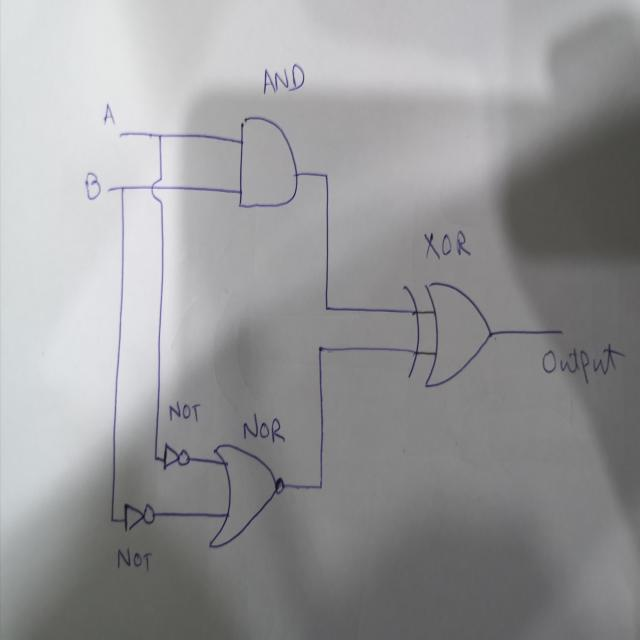crossover: (150, 174, 167, 209)
junction: (320, 167, 332, 186), (315, 476, 325, 496), (117, 181, 128, 196), (315, 340, 324, 358), (154, 128, 164, 142), (323, 301, 330, 314), (108, 514, 115, 524), (152, 452, 158, 462)
terminal: (556, 325, 566, 338), (116, 128, 124, 141), (104, 182, 112, 195)
text: (540, 338, 626, 389), (262, 59, 308, 98), (422, 228, 472, 262), (243, 414, 286, 445), (115, 545, 153, 575), (168, 399, 201, 427), (83, 168, 102, 203), (101, 100, 117, 128)
